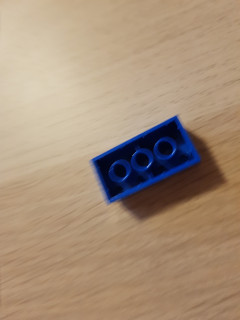2x4 blue: (86, 113, 206, 206)
